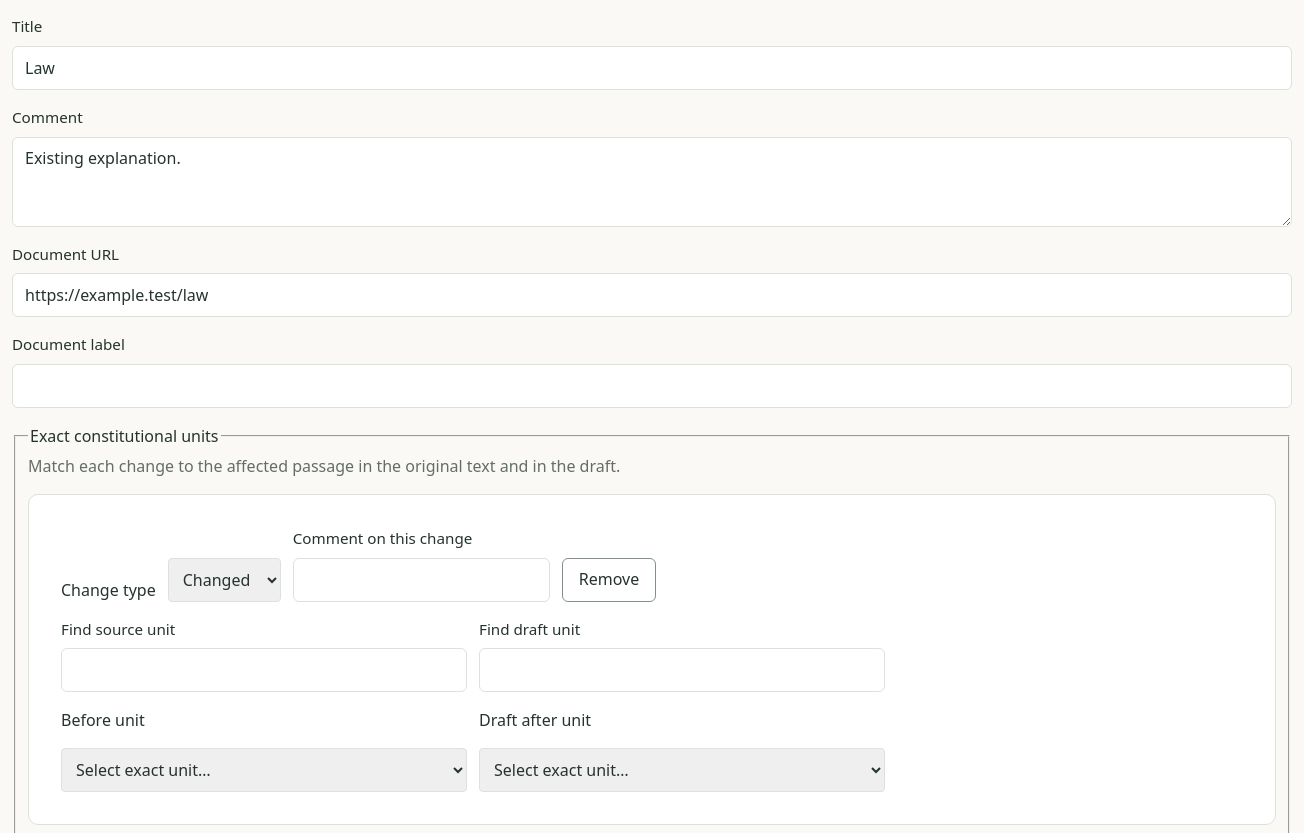
it: independent text and details unsaved guards › searching for a passage does not mark the legal change record as unsaved
In the search field labelled "Find source unit": {"x": 264, "y": 670} [61,648,467,692], type "Rights"
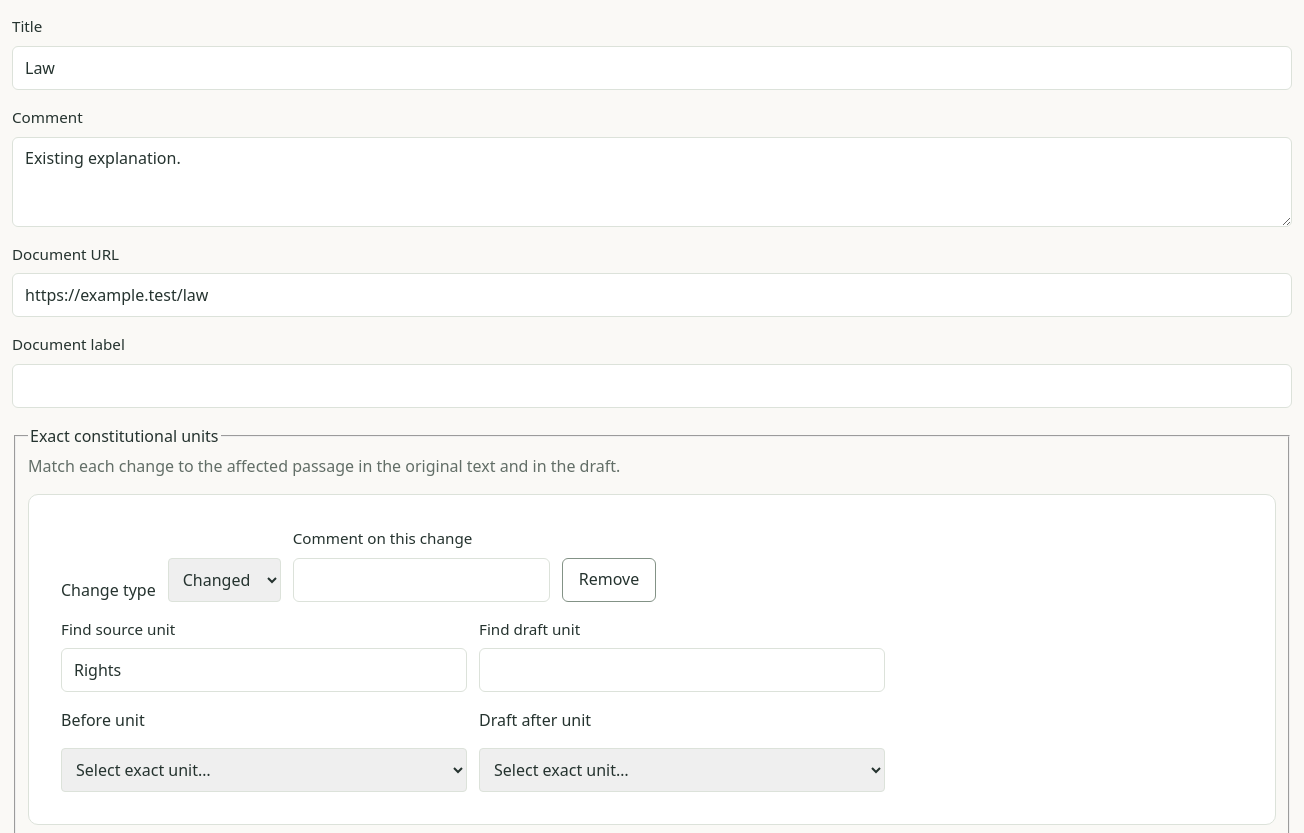
Replace the text in the field with id "recordTitle" with "Updated legal title": {"x": 652, "y": 68} [12,46,1292,90]
(page scrolled)
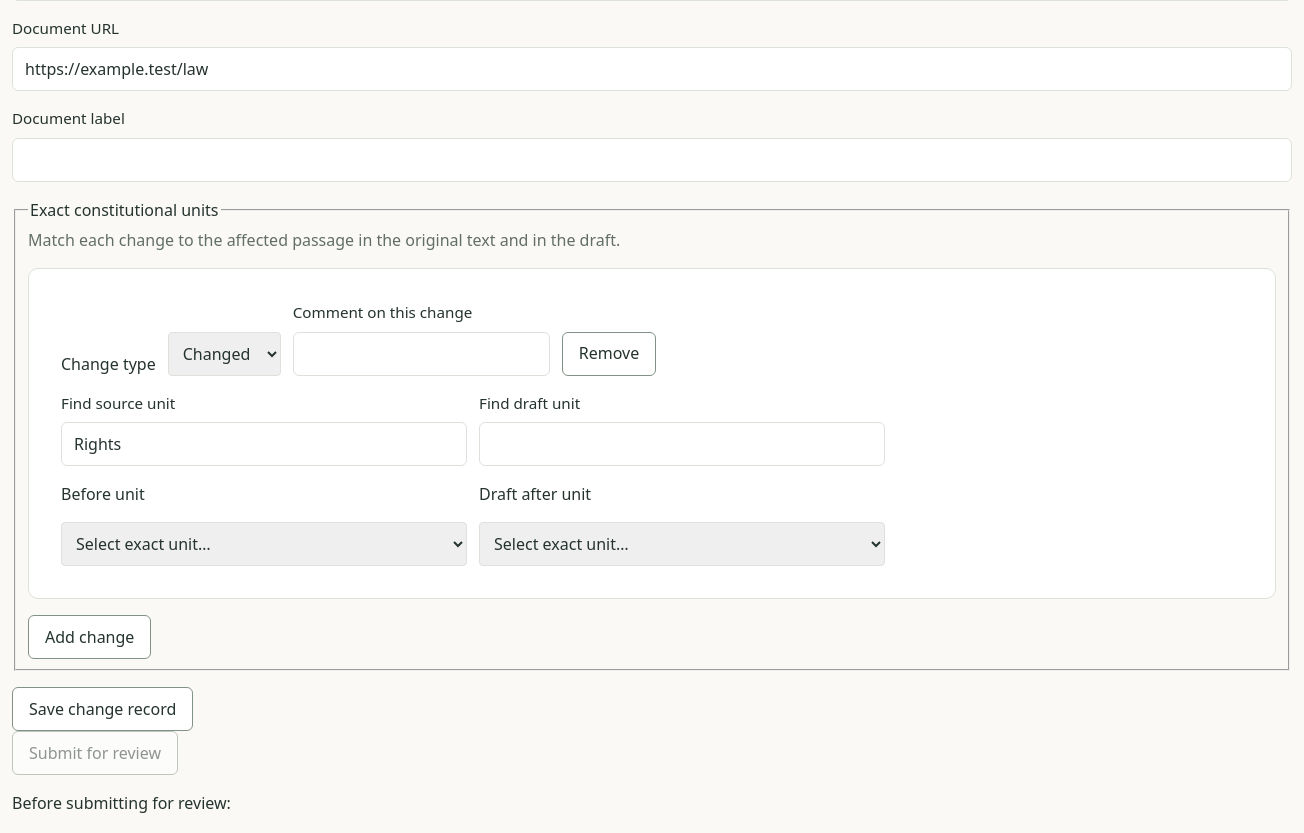
Now the button "Submit for review" is disabled, box [12,732,178,776]
